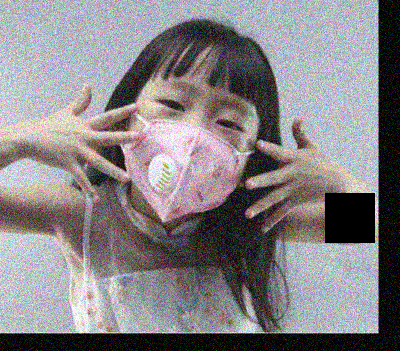with_mask: (123, 75, 258, 223)
